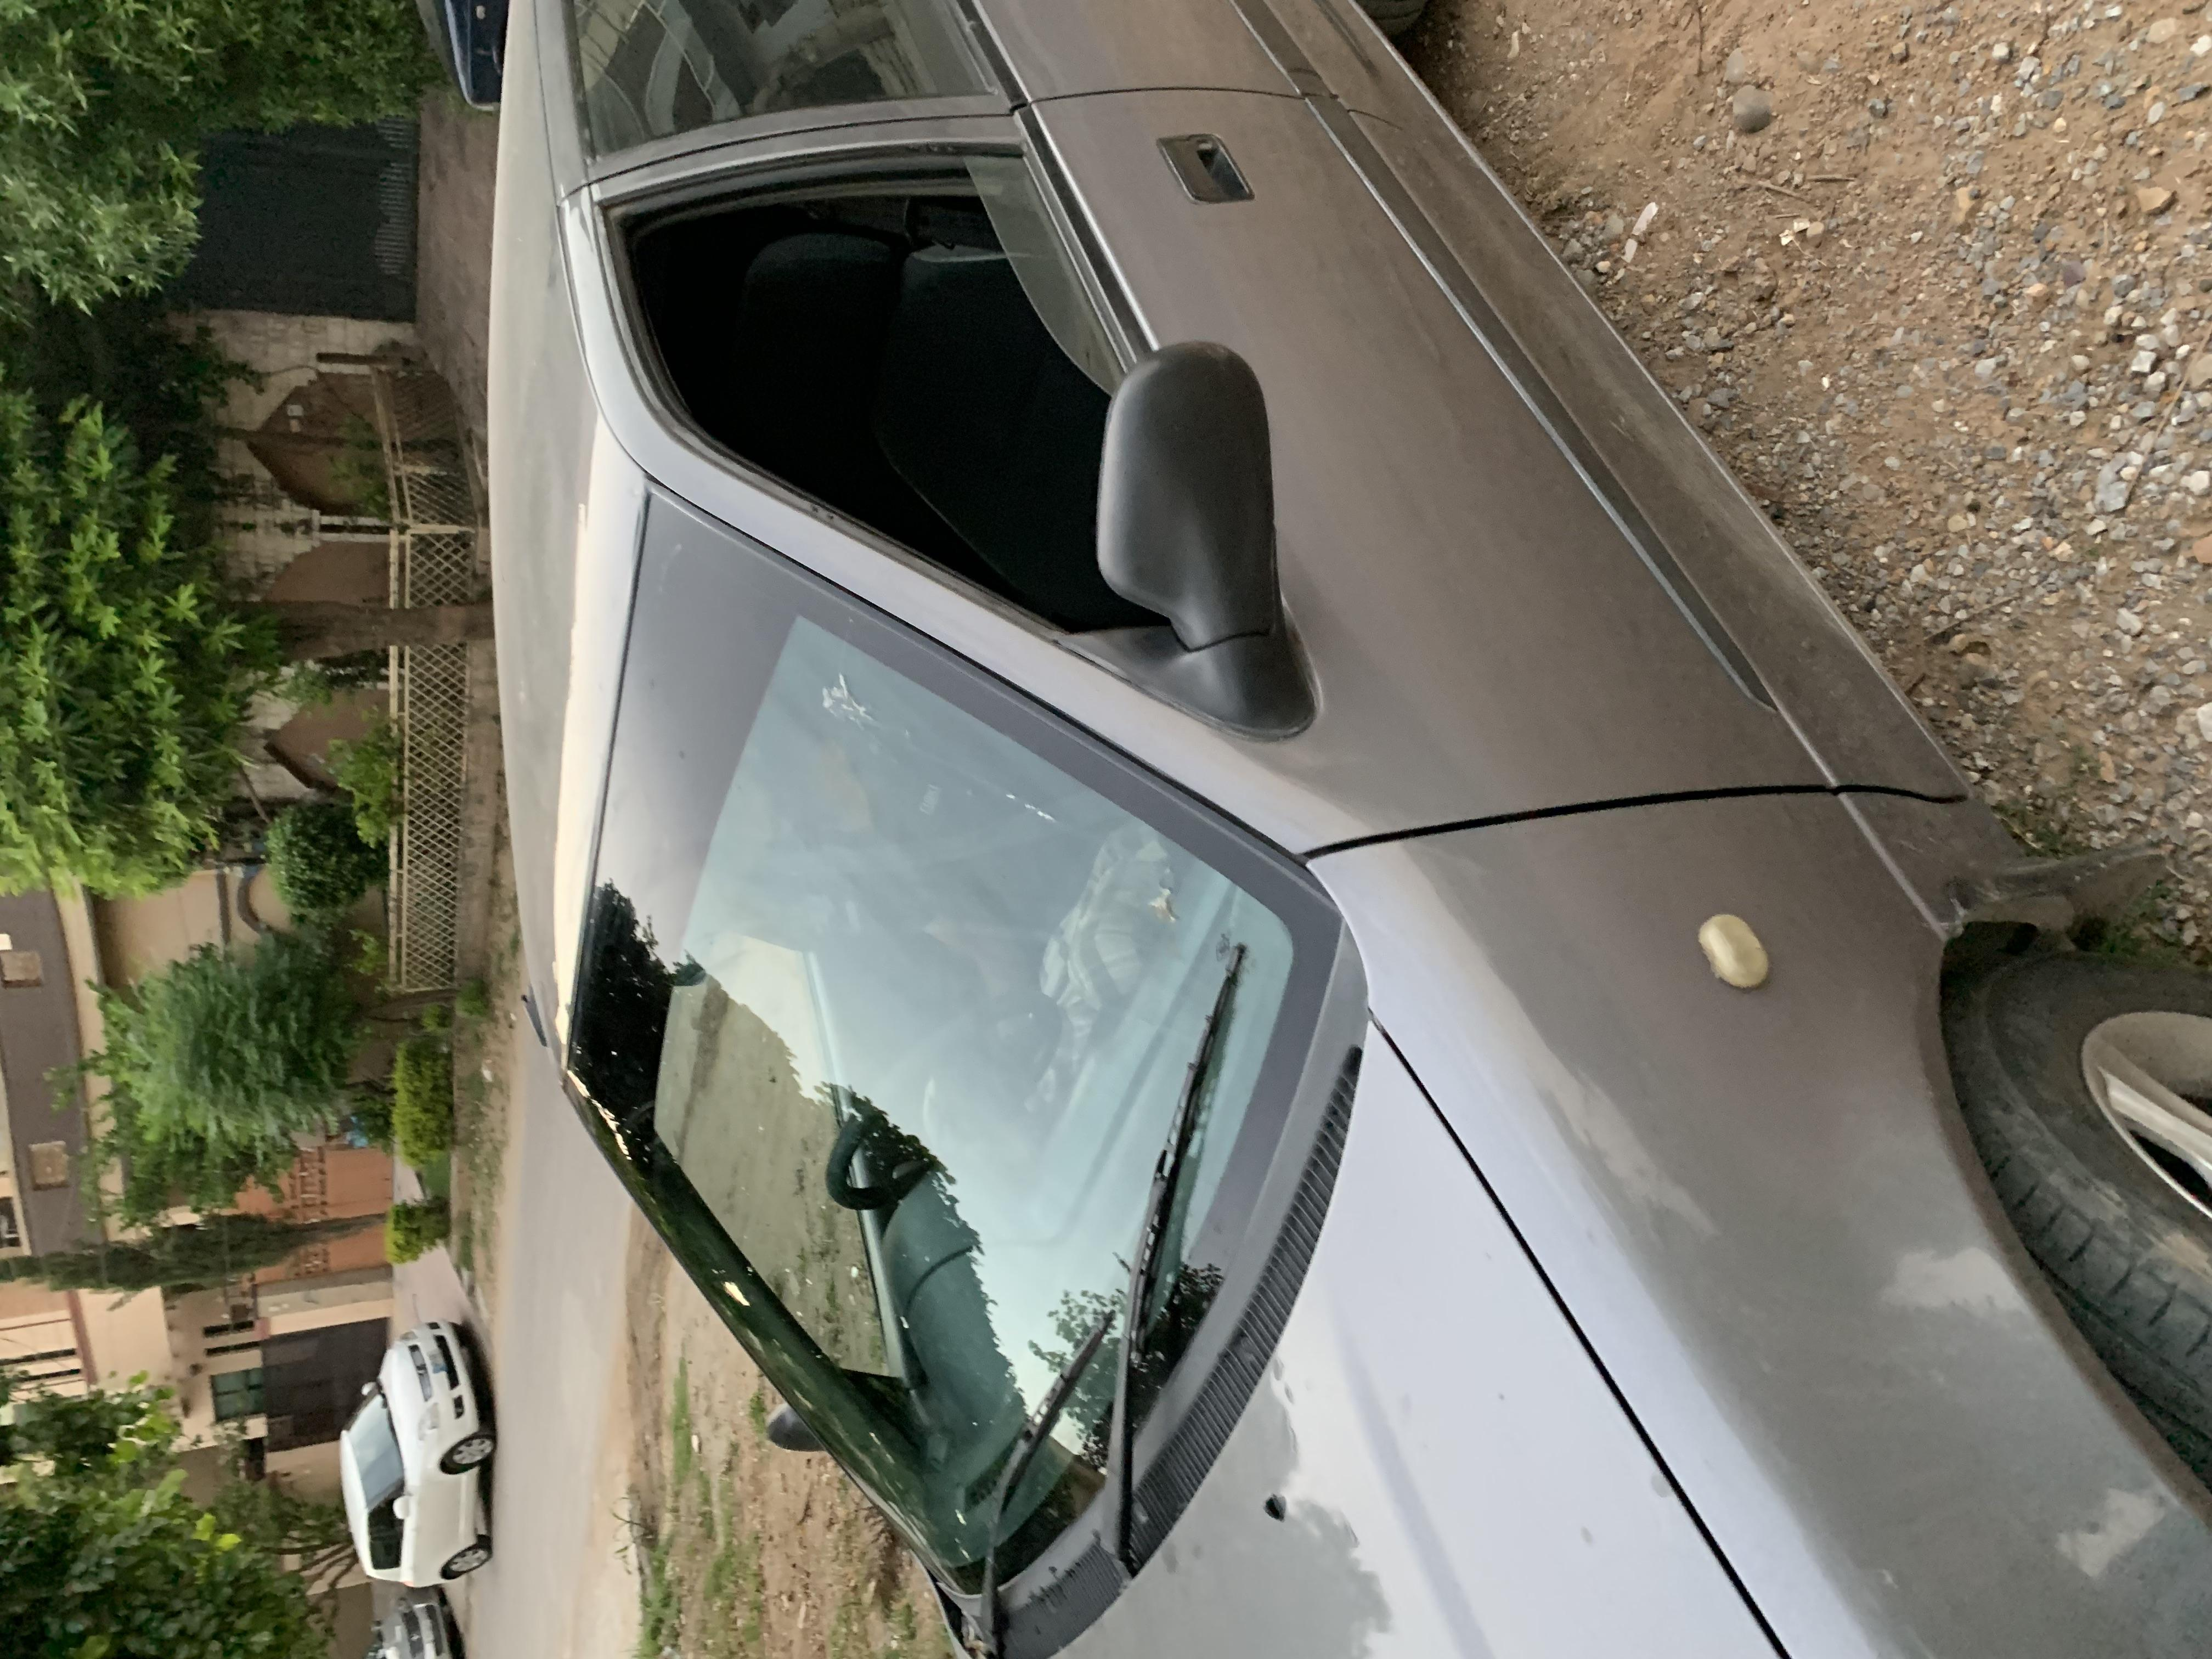windshield: (9, 408, 1538, 1021)
